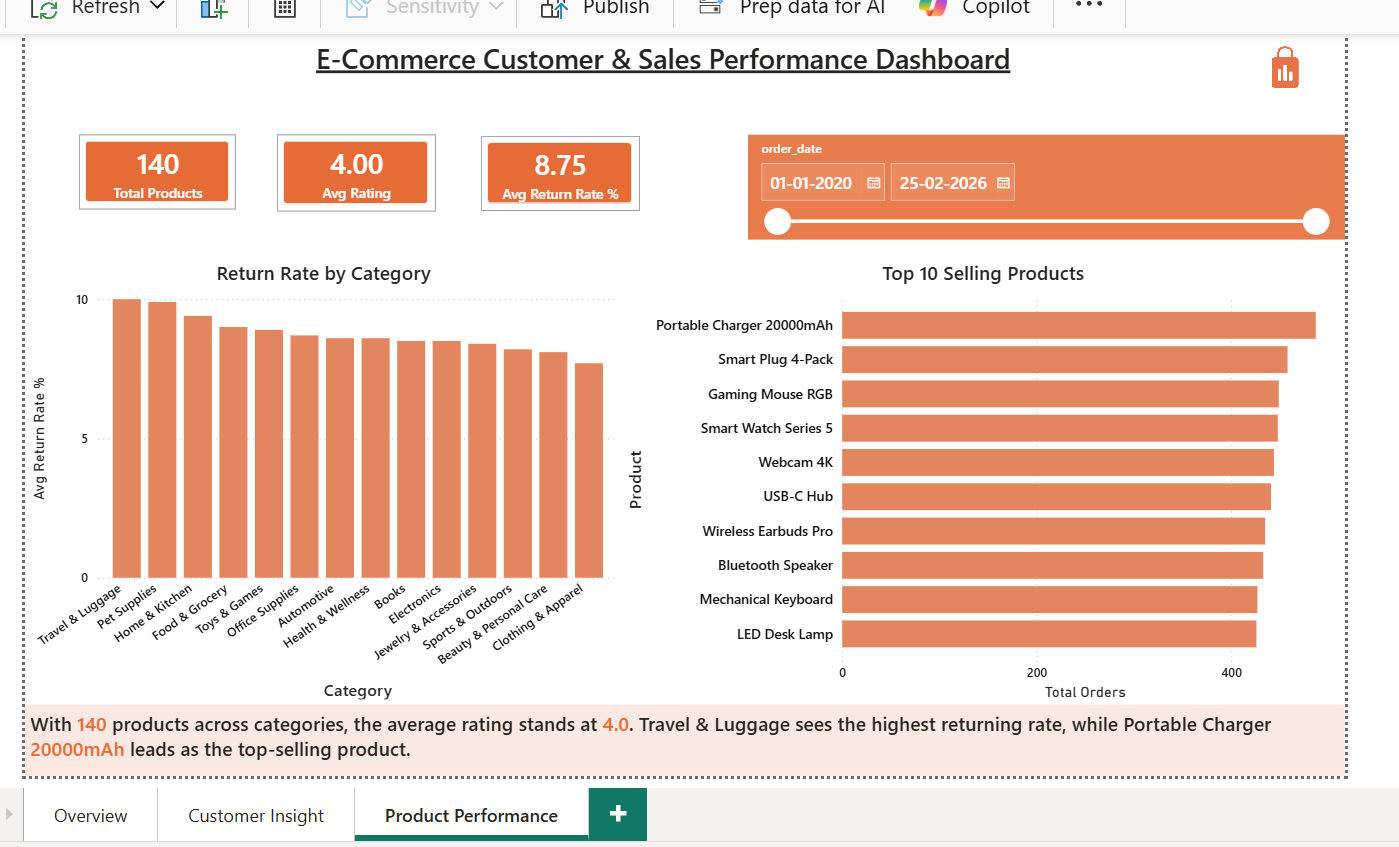

This screenshot's page, from the dashboard's own definition file:
{"tool":"powerbi","page":{"name":"Product Performance","canvas":[1280,720],"ordinal":2},"visuals":[{"type":"textbox","box":[259.3,0,720.4,61.1],"z":0},{"type":"image","box":[1171.5,0,108.5,77.7],"z":1000},{"type":"cardVisual","fields":{"Data":["customers.Total Products"]},"box":[51.8,97.2,152.2,72.9],"z":2000},{"type":"cardVisual","fields":{"Data":["customers.Avg Rating"]},"box":[244.5,97.2,153.8,74.5],"z":3000},{"type":"cardVisual","fields":{"Data":["customers.Avg Return Rate %"]},"box":[442,98.8,153.8,72.9],"z":4000},{"type":"barChart","title":"Top 10 Selling Products","fields":{"Category":["product_summary.product_name"],"Y":["customers.Total Orders"]},"box":[579.7,218.6,701.1,432.3],"z":5000},{"type":"clusteredColumnChart","title":"Return Rate by Category","fields":{"Category":["product_summary.category"],"Y":["customers.Avg Return Rate %"]},"box":[0,218.6,579.7,432.3],"z":6000},{"type":"textbox","box":[0,650.9,1280.8,69.6],"z":7000},{"type":"slicer","fields":{"Values":["orders.order_date"]},"box":[701.1,97.2,579.7,102],"z":7001}]}

Visuals, with their boxes on the page's 1280x720 design canvas (x1, y1, x2, y2). These are canvas units, not pixel positions in the 1399x847 screenshot, which may show the page scaled, cropped or inside an application window:
textbox: 259:0:980:61
image: 1172:0:1280:78
cardVisual - customers.Total Products: 52:97:204:170
cardVisual - customers.Avg Rating: 244:97:398:172
cardVisual - customers.Avg Return Rate %: 442:99:596:172
"Top 10 Selling Products" barChart: 580:219:1281:651
"Return Rate by Category" clusteredColumnChart: 0:219:580:651
textbox: 0:651:1281:720
slicer - orders.order_date: 701:97:1281:199
